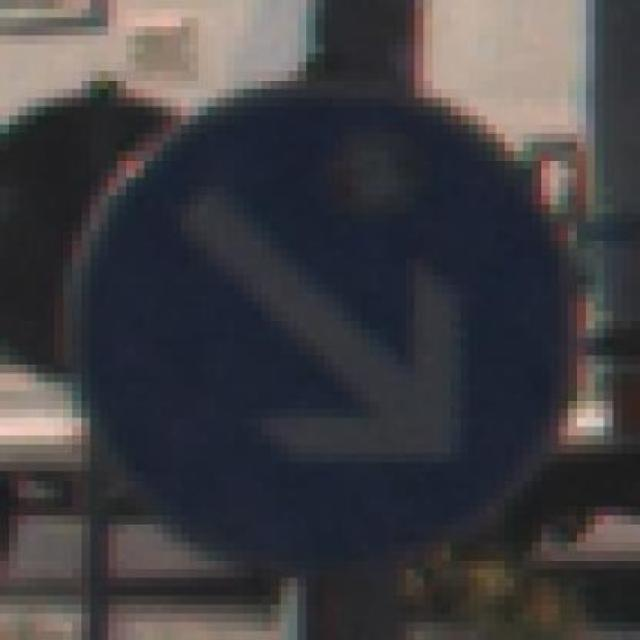Keep-Right: (54, 53, 595, 587)
